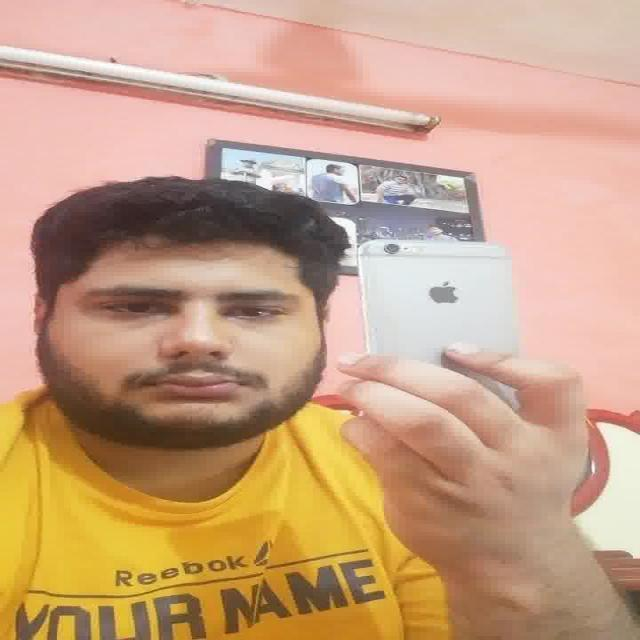Phone: (356, 236, 522, 372)
